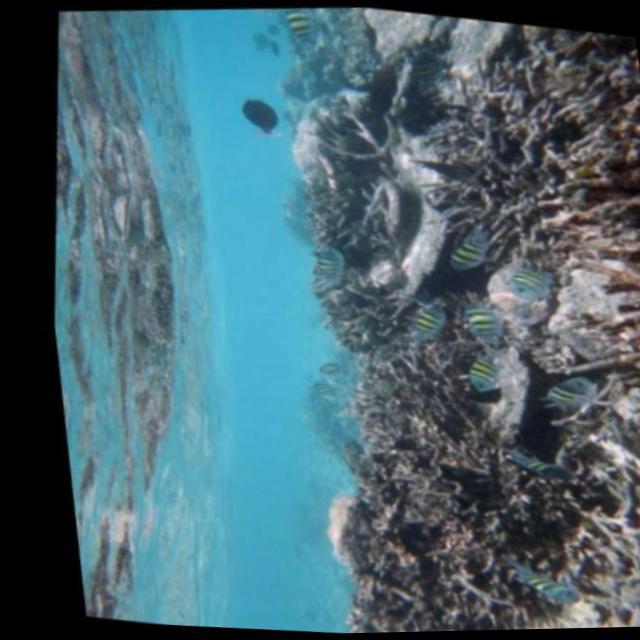Dead Coral: (161, 0, 640, 637)
